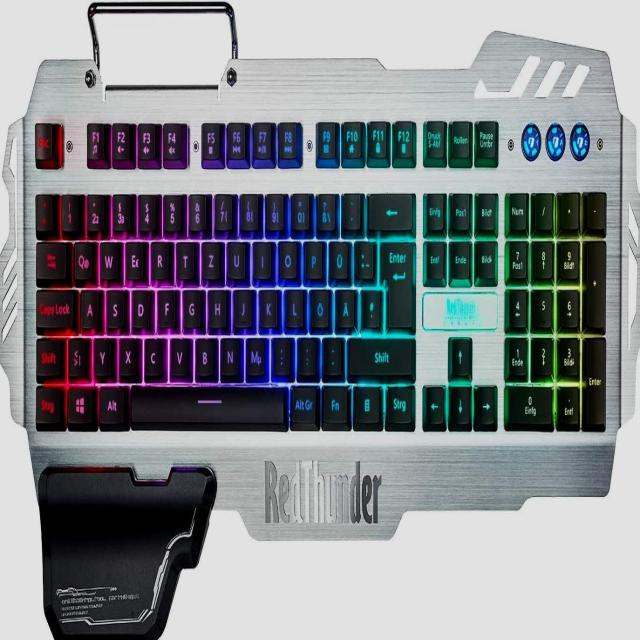0: (290, 188, 310, 229)
1: (59, 189, 77, 230)
2: (85, 189, 103, 230)
3: (111, 189, 130, 230)
4: (137, 189, 155, 229)
5: (162, 190, 181, 230)
6: (187, 189, 206, 229)
7: (213, 189, 232, 230)
8: (239, 189, 258, 230)
9: (264, 188, 283, 229)
a: (79, 285, 97, 326)
accent: (341, 188, 360, 227)
ae: (335, 285, 354, 327)
alt-left: (97, 380, 124, 423)
altgr-right: (289, 381, 317, 424)
b: (193, 332, 213, 375)
c: (142, 333, 162, 375)
caret: (34, 189, 52, 229)
comma: (271, 332, 289, 373)
d: (130, 285, 149, 326)
del: (366, 189, 412, 229)
e: (124, 236, 143, 277)
enter: (379, 235, 411, 328)
f: (156, 285, 174, 325)
g: (181, 285, 200, 326)
h: (207, 285, 226, 327)
hash: (360, 285, 379, 326)
i: (252, 236, 270, 276)
j: (233, 285, 251, 326)
k: (258, 285, 276, 326)
keyboard: (27, 100, 613, 448)
l: (284, 285, 302, 326)
less: (66, 333, 85, 375)
m: (244, 333, 264, 375)
minus: (321, 333, 341, 373)
n: (219, 332, 238, 375)
o: (276, 236, 297, 276)
oe: (308, 285, 328, 327)
p: (303, 236, 321, 276)
plus: (354, 235, 372, 277)
point: (297, 333, 316, 373)
q: (72, 236, 92, 277)
r: (149, 236, 168, 277)
s: (104, 285, 123, 327)
shift-left: (34, 334, 60, 375)
shift-lock: (35, 284, 74, 327)
shift-right: (347, 334, 411, 375)
space: (128, 381, 285, 425)
ss: (315, 188, 334, 230)
strg-left: (34, 382, 60, 423)
strg-right: (384, 382, 412, 424)
t: (174, 236, 193, 276)
tab: (34, 238, 65, 278)
u: (225, 236, 245, 277)
ue: (328, 235, 347, 277)
v: (168, 332, 187, 374)
w: (98, 236, 117, 278)
x: (117, 333, 136, 374)
y: (92, 333, 110, 374)
z: (200, 236, 219, 277)
